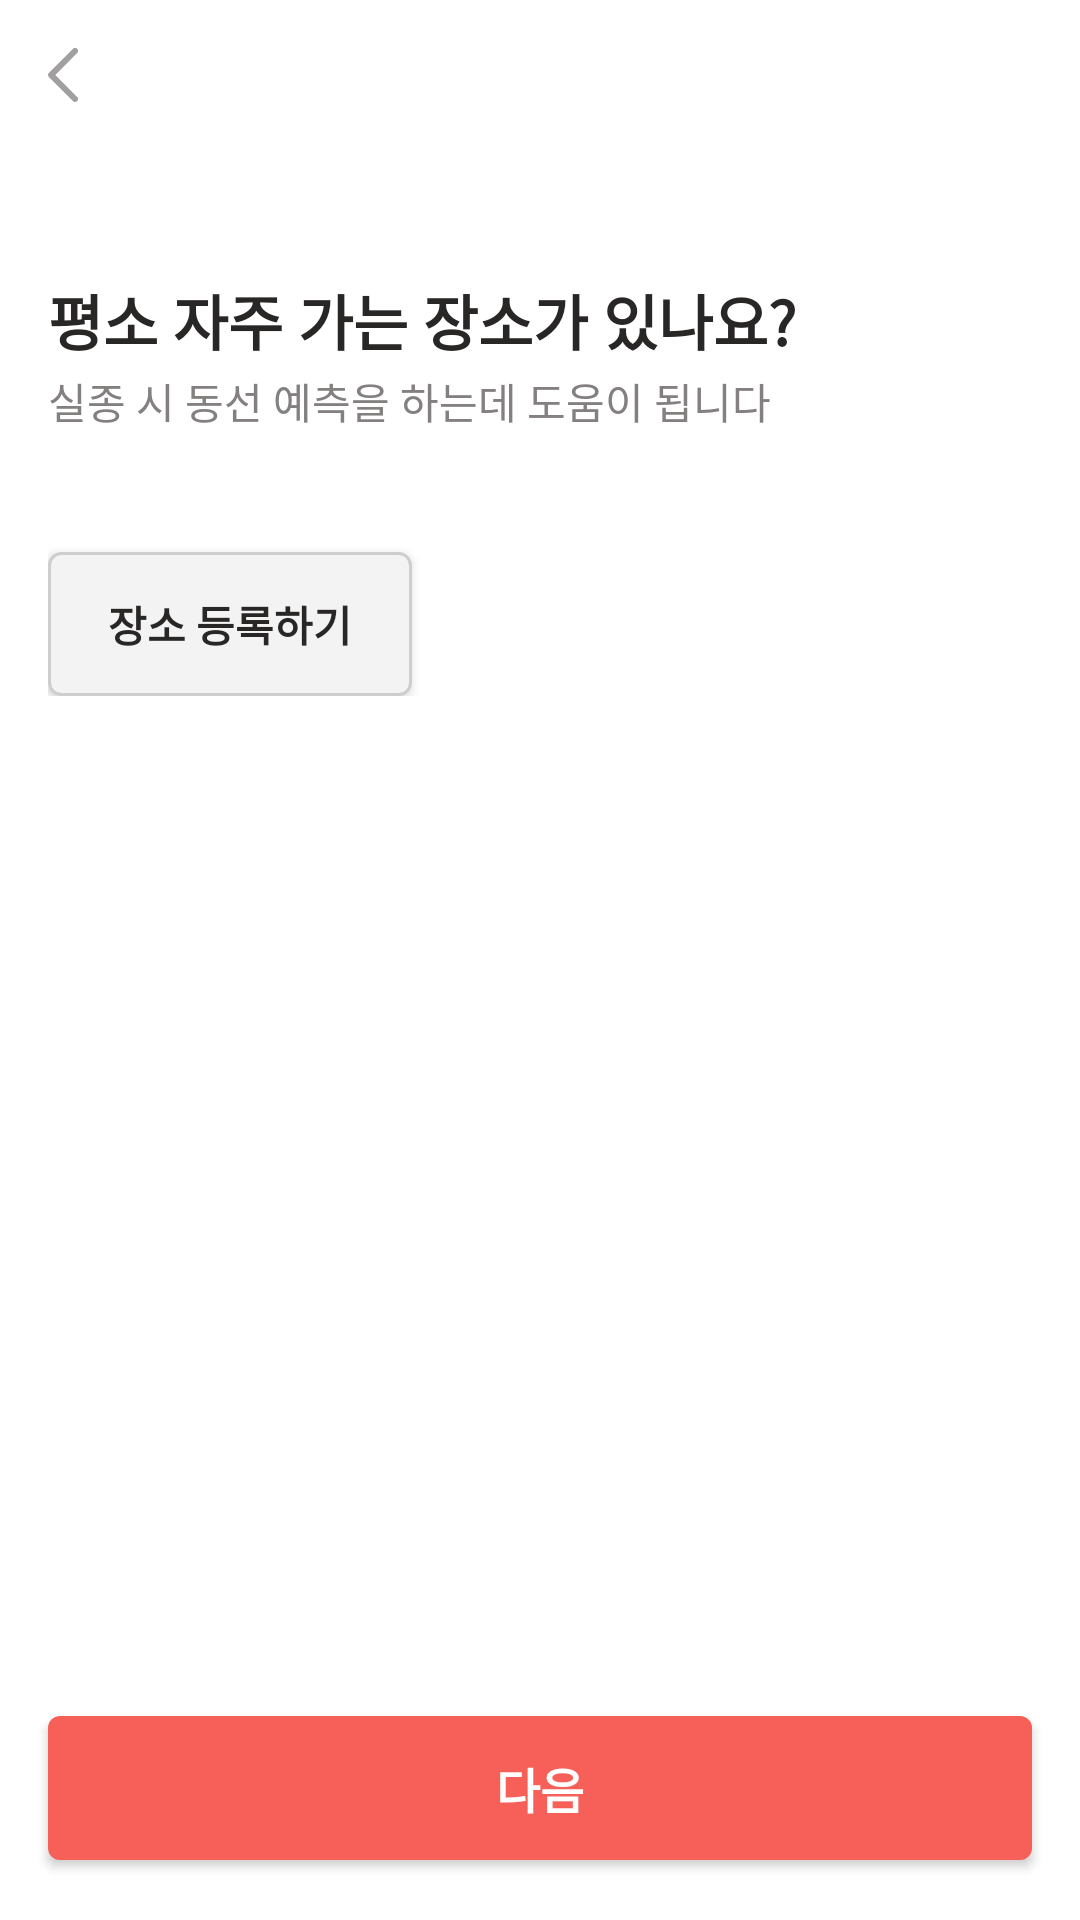

Where to tap for icons on this 1080*1920 app screen, as (x=x, y=y):
back: (x=63, y=75)
